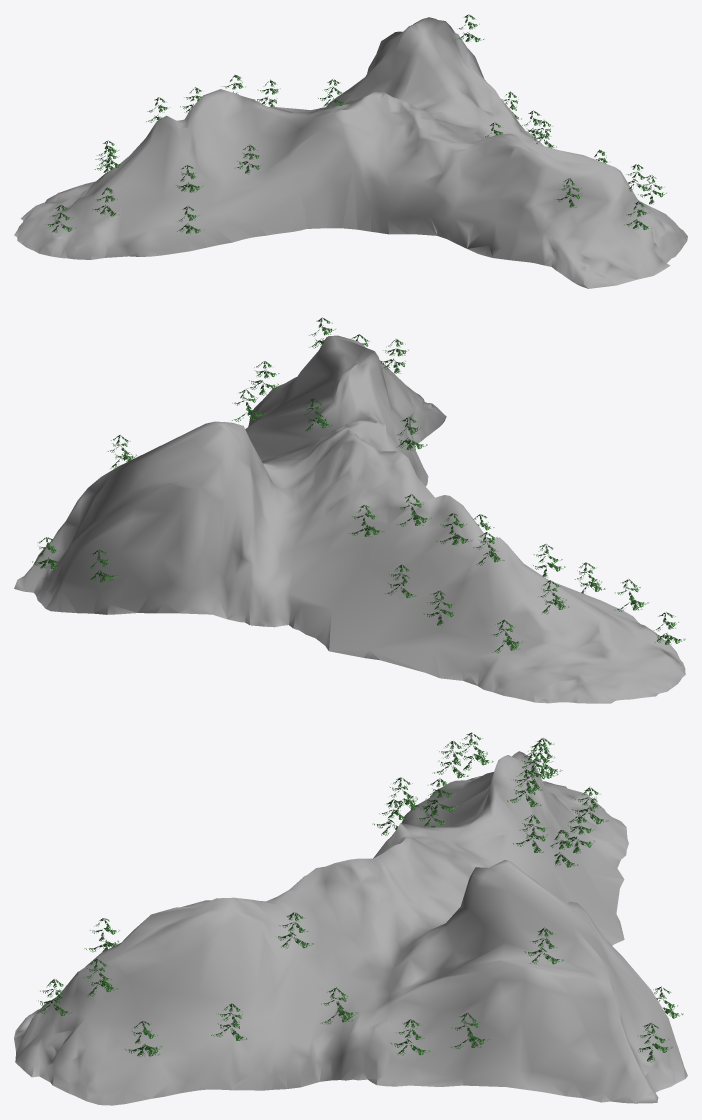
Rendered from snow_island_03.fbx.
3 renders of one model, top to bottom at view 1: azimuth 30°, elevation 25°; view 2: azimuth 150°, elevation 25°; view 3: azimuth 270°, elevation 25°, orthographic. The views are drawn at different scales.
Visible parts, largest first — view 1: snow_island_03; view 2: snow_island_03; view 3: snow_island_03.
Boxes of the visible parts, box(x1,y1,x2,y2) form: snow_island_03: box(14, 14, 687, 288); snow_island_03: box(14, 317, 685, 703); snow_island_03: box(14, 732, 687, 1105).
Size of the model in its own units: 0.9586 by 0.2445 by 0.8368.
2 materials, 1 textured.
